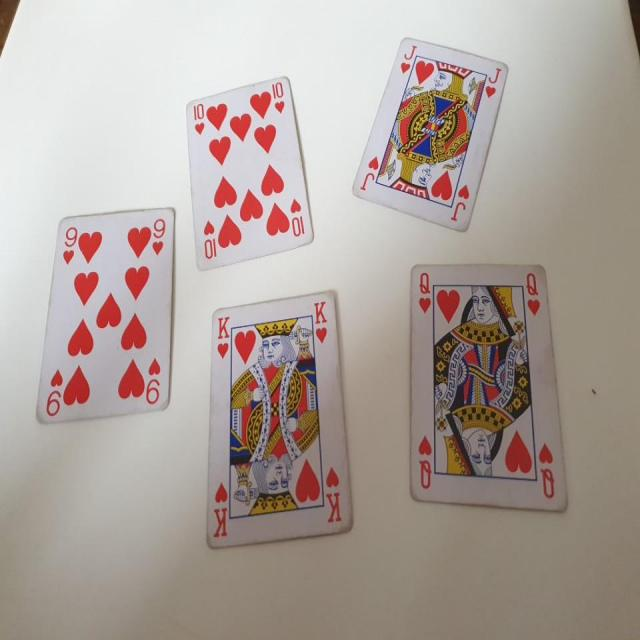10 Hearts: (175, 68, 318, 272)
9 Hearts: (30, 205, 179, 434)
J Hearts: (344, 28, 508, 245)
K Hearts: (205, 285, 359, 551)
Q Hearts: (400, 245, 578, 522)
